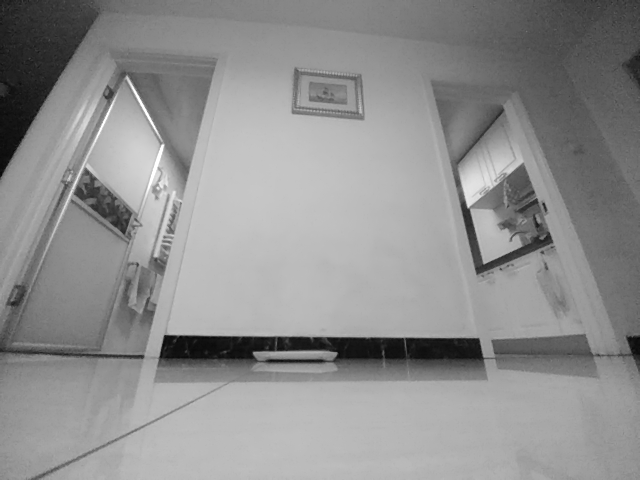scale: (251, 348, 341, 365)
